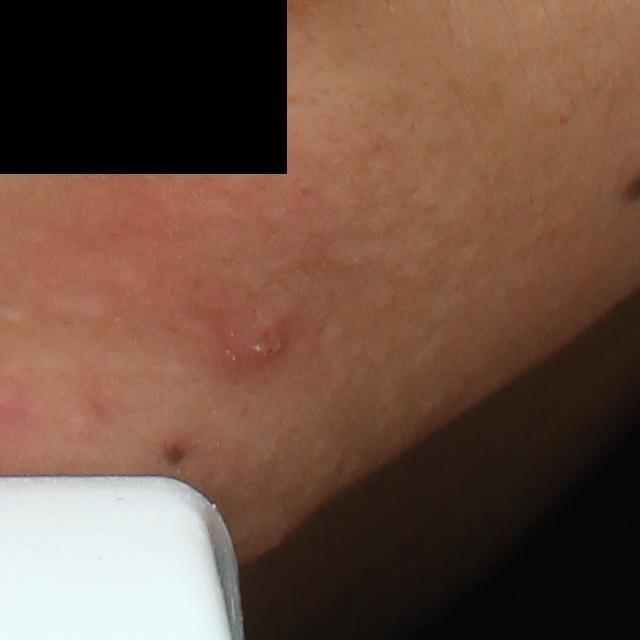nevus: (157, 435, 192, 470)
papule: (225, 319, 292, 379)
